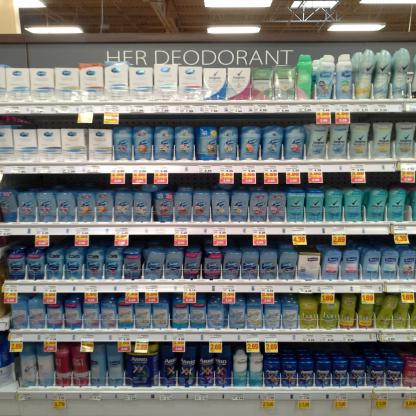Void: (13, 172, 106, 189), (19, 116, 70, 126), (174, 173, 215, 184), (138, 236, 172, 246)
